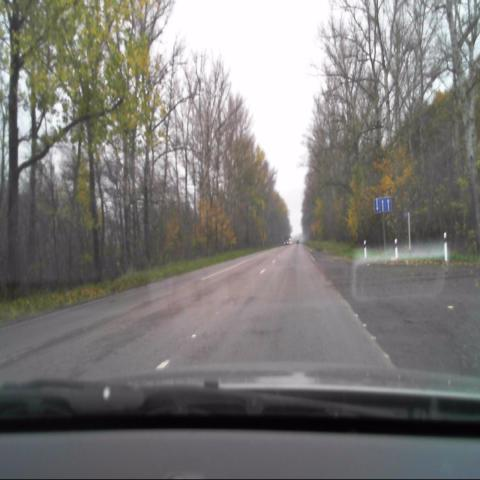5_15_7: (374, 196, 392, 214)
